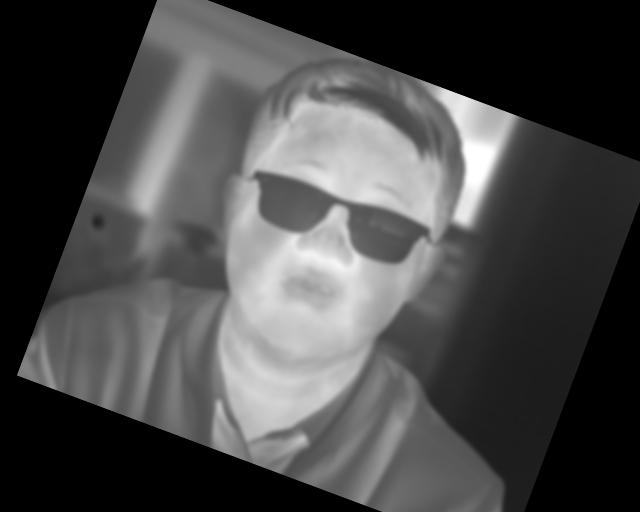face: (175, 30, 503, 402)
